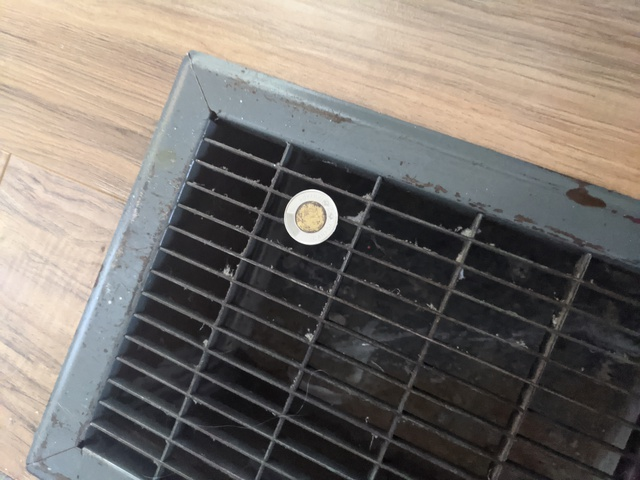twonie: (281, 187, 339, 247)
